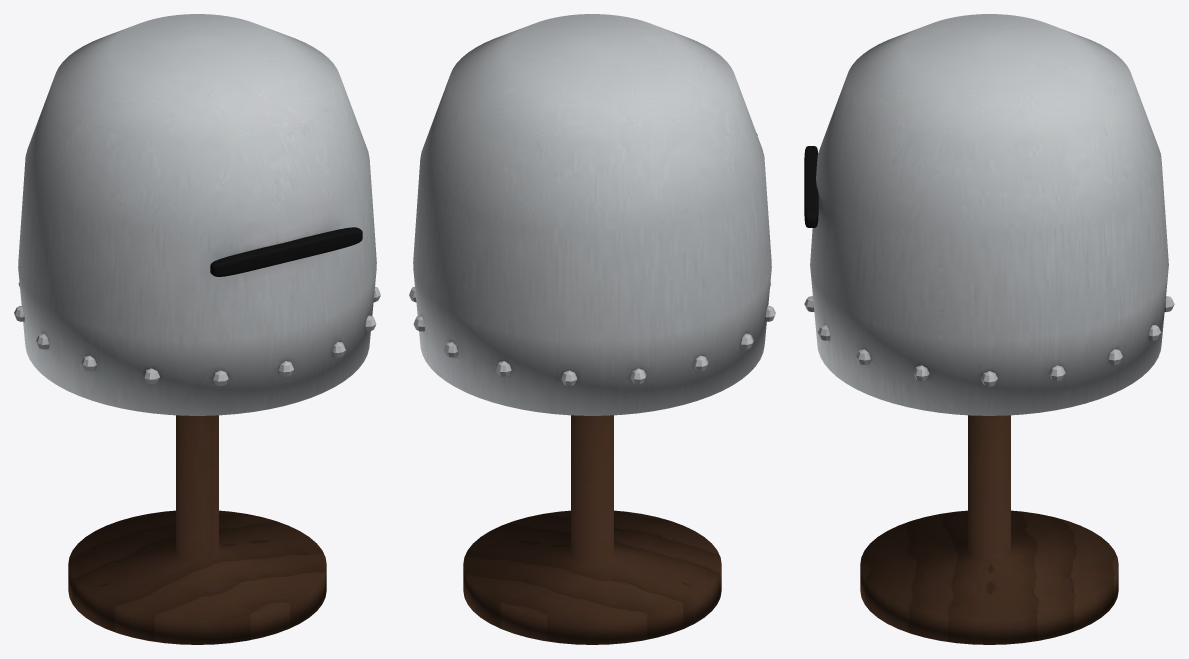
The model's file is knight-steel.glb.
3 renders of one model, left to right at view 1: azimuth 30°, elevation 25°; view 2: azimuth 150°, elevation 25°; view 3: azimuth 270°, elevation 25°, orthographic.
Visible parts, largest first — view 1: steel_polished, wood_z, slit_dark; view 2: steel_polished, wood_z; view 3: steel_polished, wood_z, slit_dark.
Part boxes in pixels (x1=…): steel_polished: x1=14, y1=14, x2=380, y2=415; wood_z: x1=68, y1=415, x2=326, y2=644; slit_dark: x1=210, y1=227, x2=362, y2=276; steel_polished: x1=409, y1=14, x2=775, y2=415; wood_z: x1=463, y1=415, x2=721, y2=644; steel_polished: x1=804, y1=14, x2=1174, y2=415; wood_z: x1=860, y1=415, x2=1118, y2=644; slit_dark: x1=804, y1=146, x2=818, y2=227.
Bounding box in the file's own units: 0.258 × 0.42 × 0.258.
4 materials, 2 textured.
